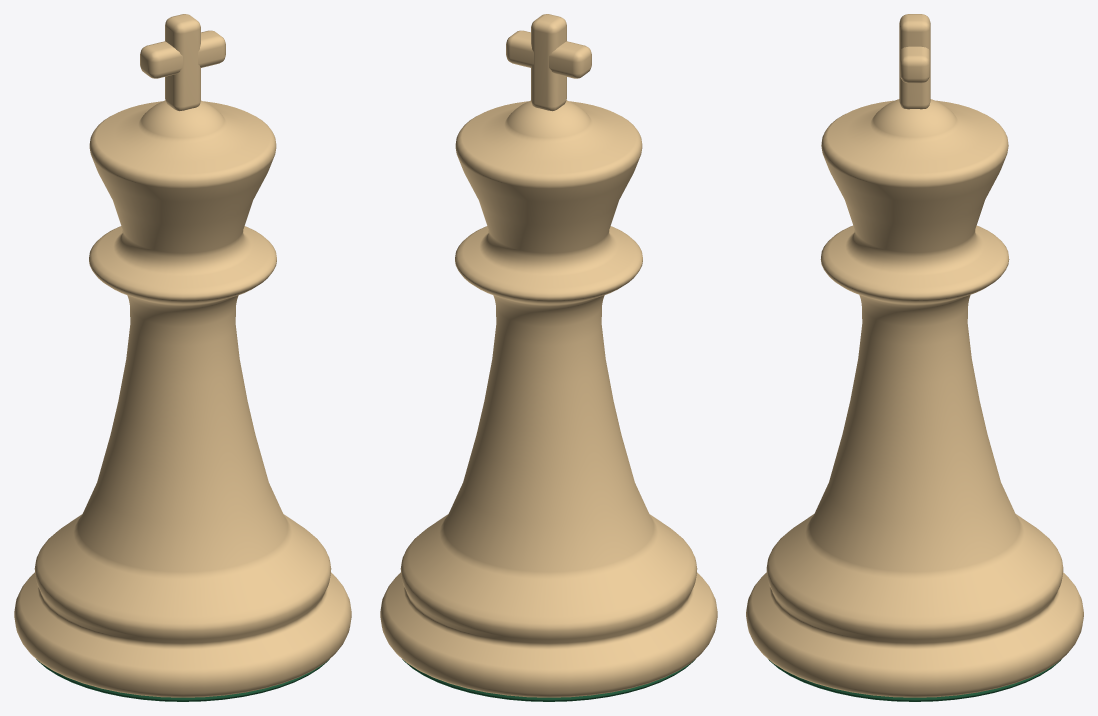
Rendered from king.glb.
The picture shows the model from 3 angles, left to right: view 1: azimuth 30°, elevation 25°; view 2: azimuth 150°, elevation 25°; view 3: azimuth 270°, elevation 25°; orthographic projection.
Parts seen in each view (by area): view 1: King, Felt; view 2: King, Felt; view 3: King, Felt.
Boxes of the visible parts, x1,y1,x2,y2 form: King: [14, 14, 351, 697]; Felt: [36, 659, 329, 701]; King: [380, 14, 717, 697]; Felt: [402, 659, 695, 701]; King: [746, 14, 1083, 697]; Felt: [768, 659, 1061, 701].
Size of the model in its own units: 0.074 by 0.1493 by 0.074.
